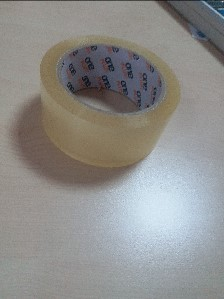band: (35, 35, 182, 174)
